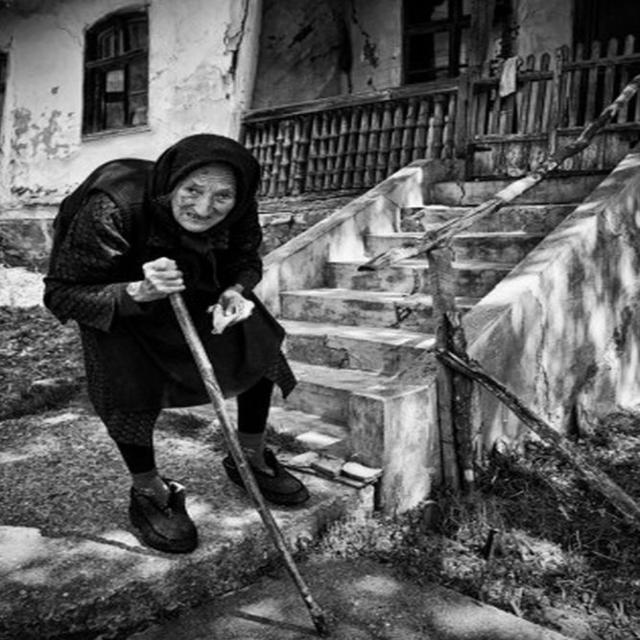idoso em pe: (72, 138, 337, 529)
